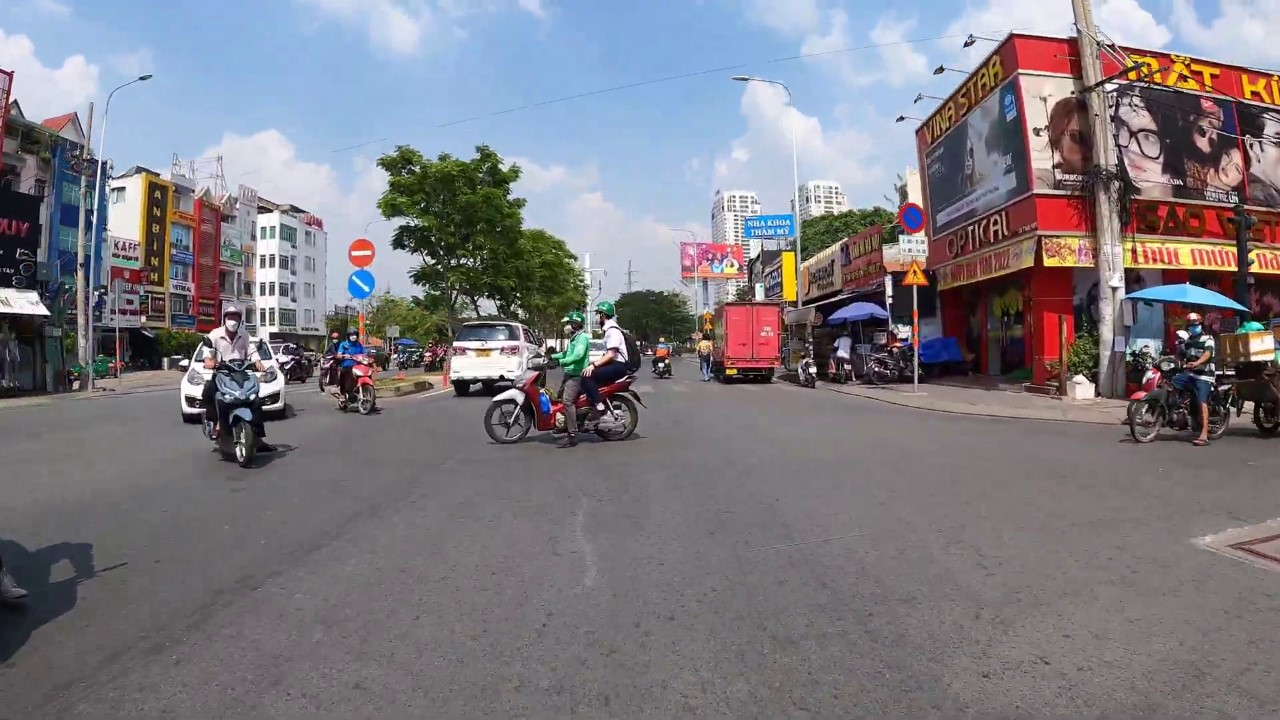cam_do_xe: (898, 202, 926, 234)
cam_nguoc_chieu: (348, 239, 376, 267)
can_than_nguoi_qua_duong: (901, 259, 929, 286)
huong_phai_di_vong: (347, 269, 375, 300)
